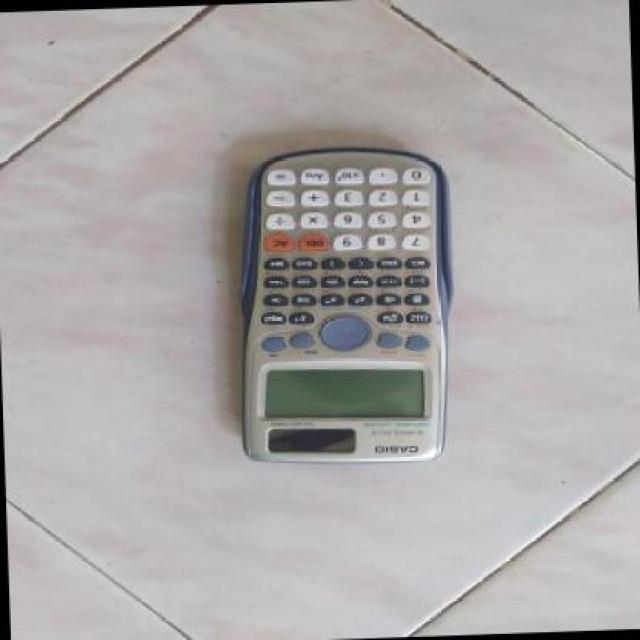Calculator: (222, 130, 483, 478)
